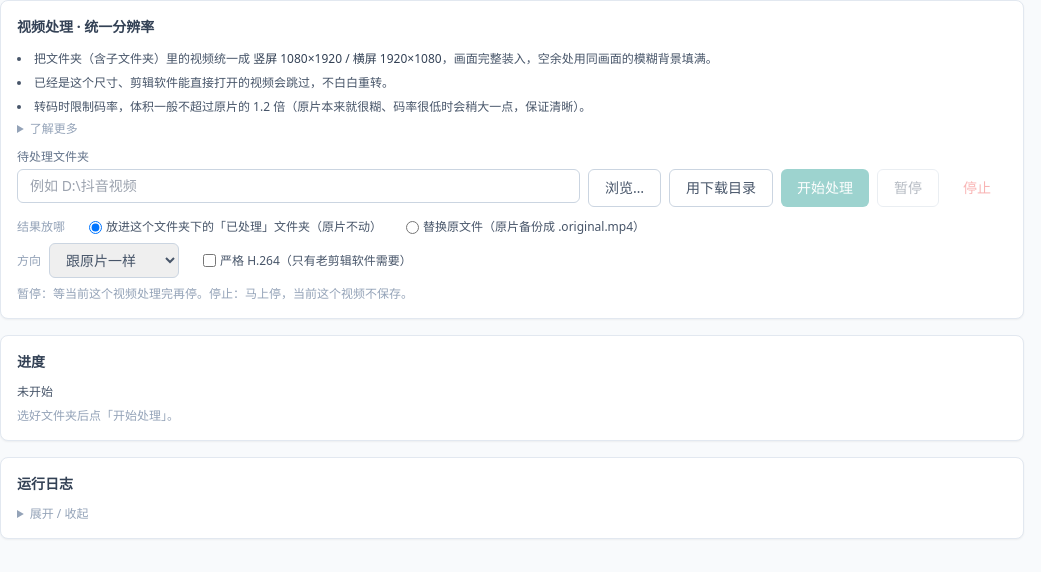
Test: 视频处理选项 › 文件夹不存在：红字就近显示在输入框下面，框标红；改了就消失
Type "D:/没有" into the field labelled "待处理文件夹". click: (298, 186)
box: [17, 169, 580, 203]
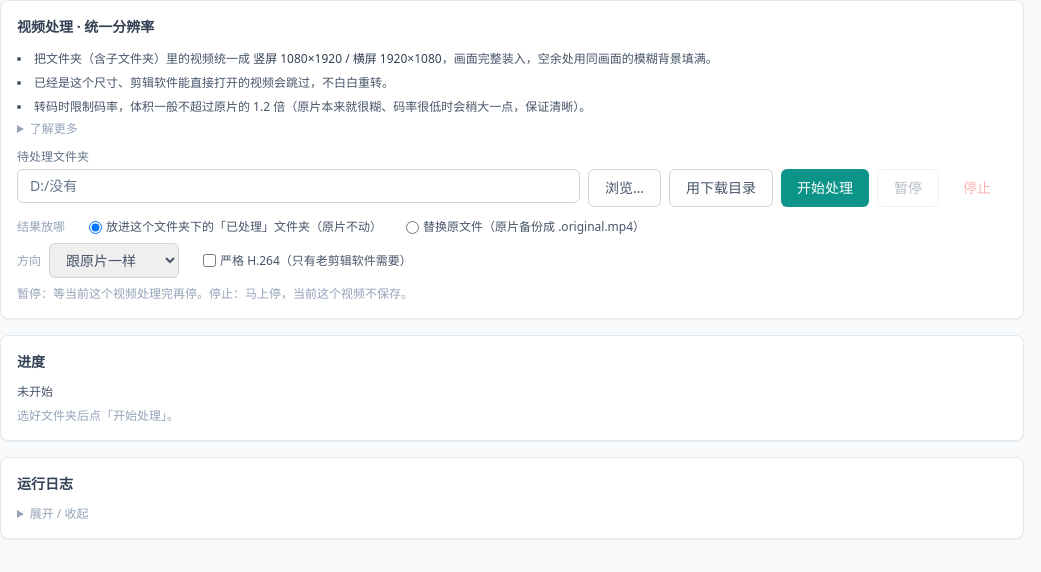
Click the button "开始处理". click: (825, 188)
box: [781, 169, 869, 207]
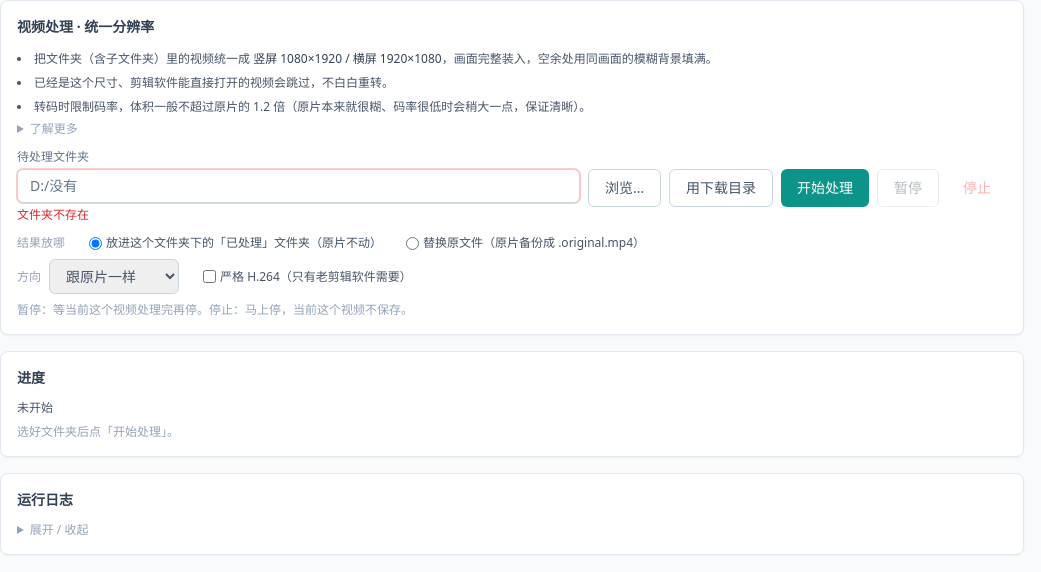
Check: the text "文件夹不存在" is shown, box [17, 206, 89, 223]
Replace the text in the field labelled "待处理文件夹" with "D:/视频". click: (298, 186)
box: [17, 169, 580, 203]
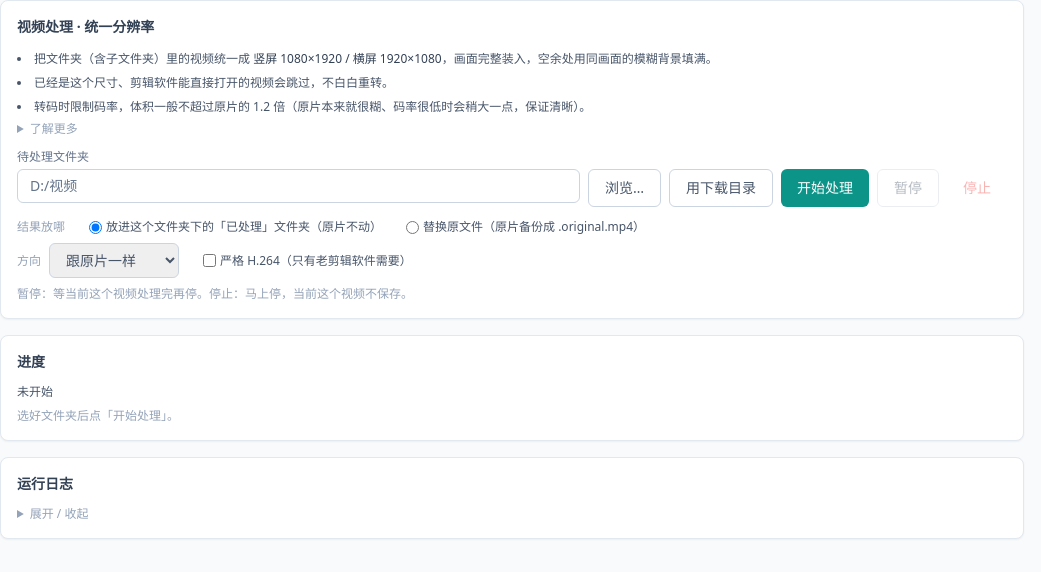
Check: the text "文件夹不存在" is gone
